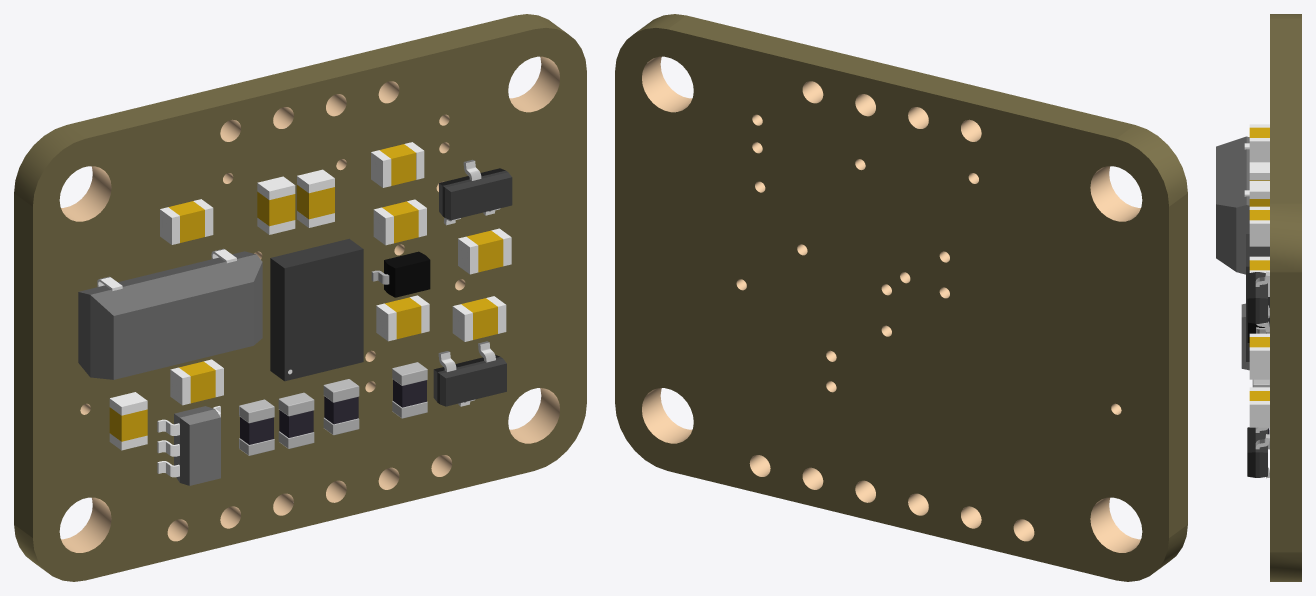
File: adafruit-2472-bno055.glb
3 renders of one model, left to right at view 1: azimuth 30°, elevation 25°; view 2: azimuth 150°, elevation 25°; view 3: azimuth 270°, elevation 25°, orthographic. The views are drawn at different scales.
Parts seen in each view (by area): view 1: body_10, body_11, body_3, body, body_7, body_6, body_2, body_12, body_5, body_9, body_4; view 2: body_10, body_7; view 3: body_10, body_11, body, body_3, body_6, body_4, body_12, body_2, body_9.
Boxes of the visible parts, x1,y1,x2,y2 form: body_10: (14, 14, 586, 581); body_11: (78, 251, 262, 379); body_3: (270, 168, 512, 406); body: (97, 142, 511, 477); body_7: (61, 56, 559, 552); body_6: (109, 144, 503, 441); body_2: (239, 362, 427, 455); body_12: (174, 406, 220, 485); body_5: (240, 379, 426, 444); body_9: (384, 251, 430, 297); body_4: (438, 159, 500, 406); body_10: (615, 14, 1187, 581); body_7: (642, 56, 1140, 552); body_10: (1270, 14, 1301, 581); body_11: (1216, 136, 1249, 274); body: (1244, 124, 1269, 427); body_3: (1246, 234, 1269, 477); body_6: (1249, 127, 1269, 400); body_4: (1255, 271, 1269, 478); body_12: (1241, 303, 1249, 370); body_2: (1252, 379, 1269, 449); body_9: (1247, 322, 1264, 342).
Size of the model in its own units: 26.67 by 20.32 by 4.23.
